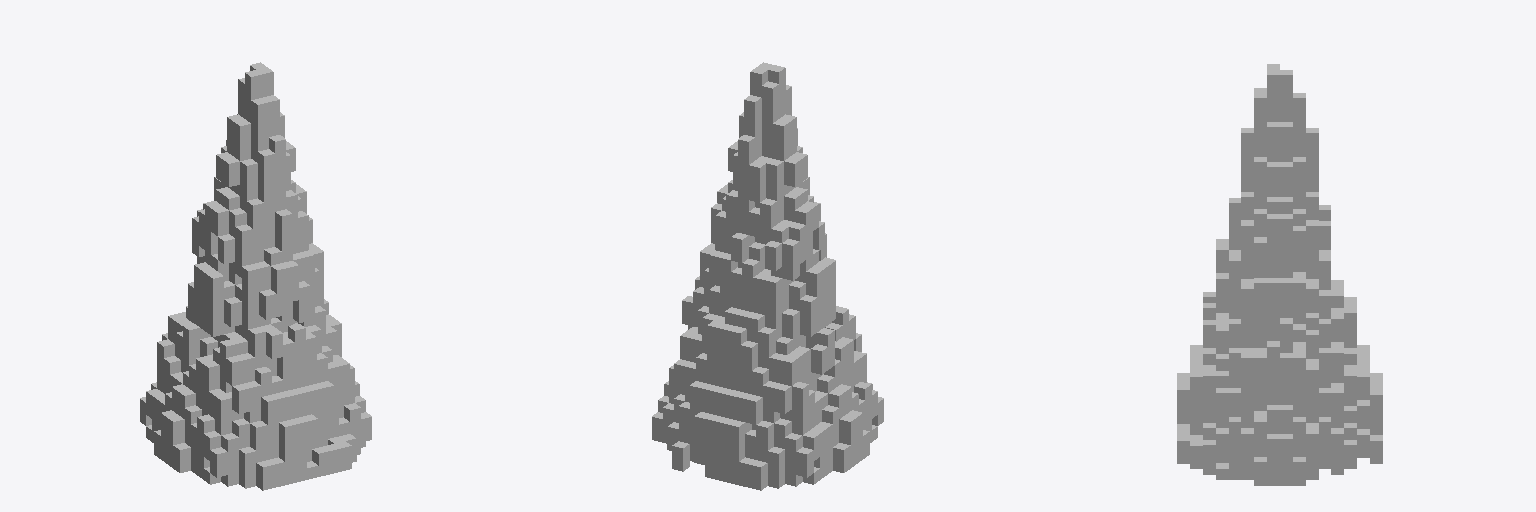
File: tree_2.obj
The picture shows the model from 3 angles: view 1: azimuth 30°, elevation 25°; view 2: azimuth 150°, elevation 25°; view 3: azimuth 270°, elevation 25°; orthographic projection.
Parts seen in each view (by area): view 1: object 1; view 2: object 1; view 3: object 1.
Boxes of the visible parts, box(x1,y1,x2,y2) form: object 1: box(140, 62, 371, 490); object 1: box(652, 62, 883, 490); object 1: box(1177, 64, 1382, 485).
Bounding box in the file's own units: 1.6 × 3.2 × 1.6.